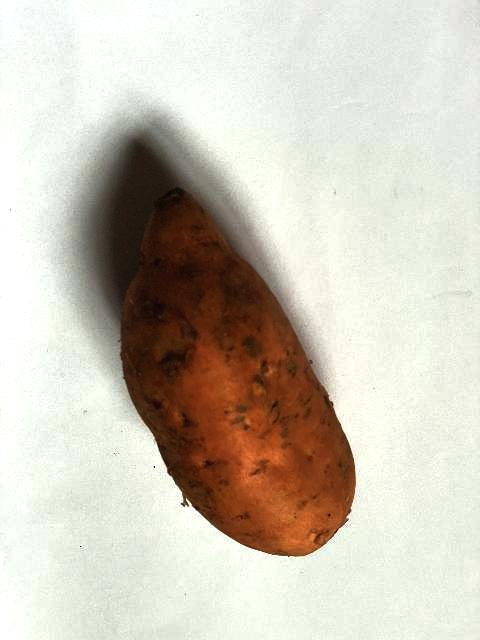sweetpotato: (116, 183, 358, 559)
